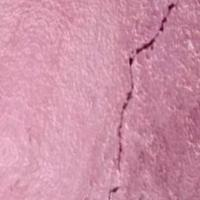crack: (90, 0, 182, 199)
